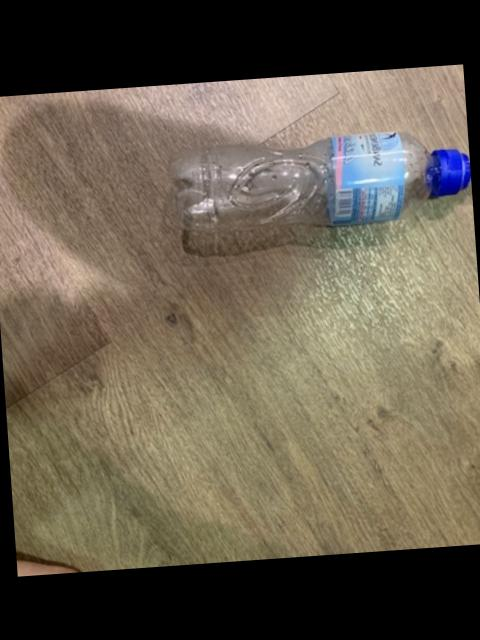plastic: (172, 134, 471, 233)
